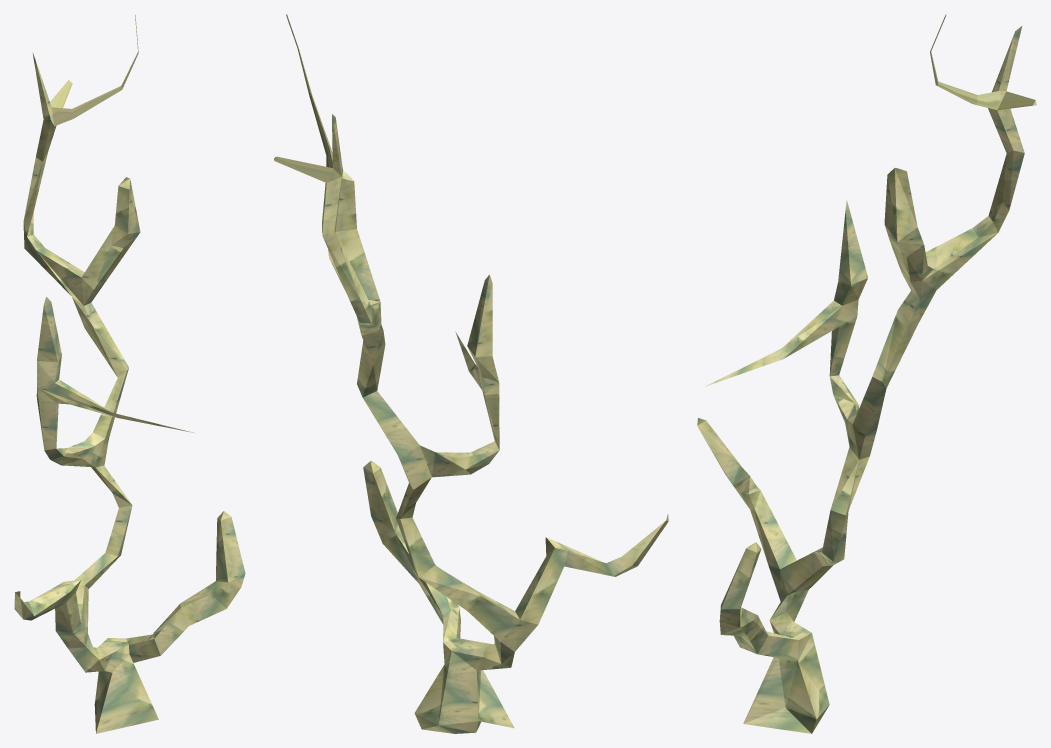
The model's file is Island_1_Tree_2.gltf.
3 renders of one model, left to right at view 1: azimuth 30°, elevation 25°; view 2: azimuth 150°, elevation 25°; view 3: azimuth 270°, elevation 25°, orthographic. The views are drawn at different scales.
Parts seen in each view (by area): view 1: Island_1_Tree_2; view 2: Island_1_Tree_2; view 3: Island_1_Tree_2.
Part boxes in pixels (bbox=[...]): Island_1_Tree_2: bbox=[14, 14, 245, 733]; Island_1_Tree_2: bbox=[274, 14, 668, 733]; Island_1_Tree_2: bbox=[697, 14, 1036, 733].
Bounding box in the file's own units: 5.49 × 14.07 × 5.74.
1 material, 1 textured.
